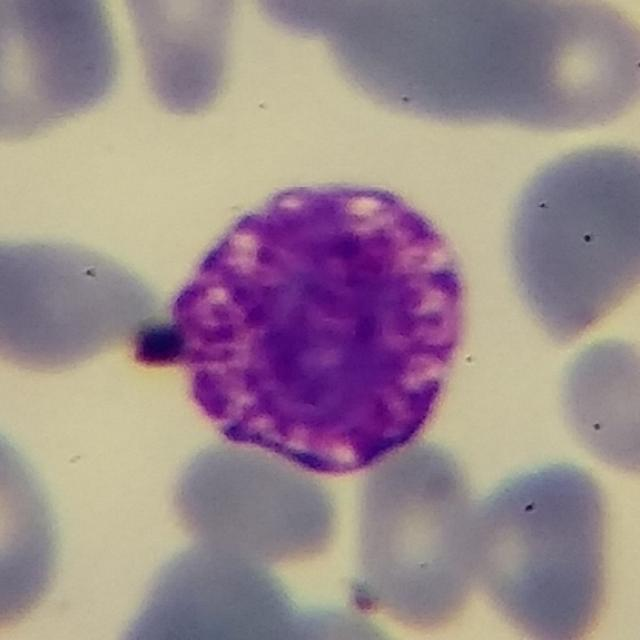baso: (169, 171, 479, 477)
